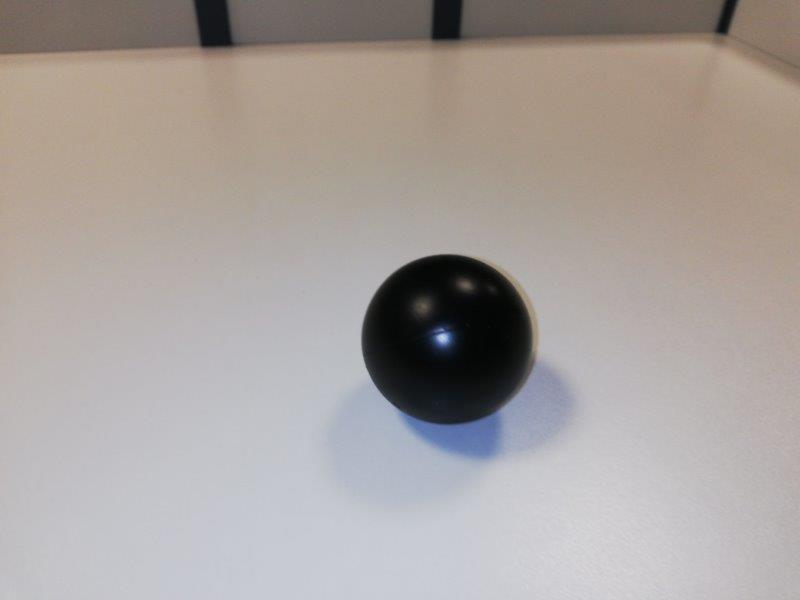nera: (361, 255, 535, 426)
